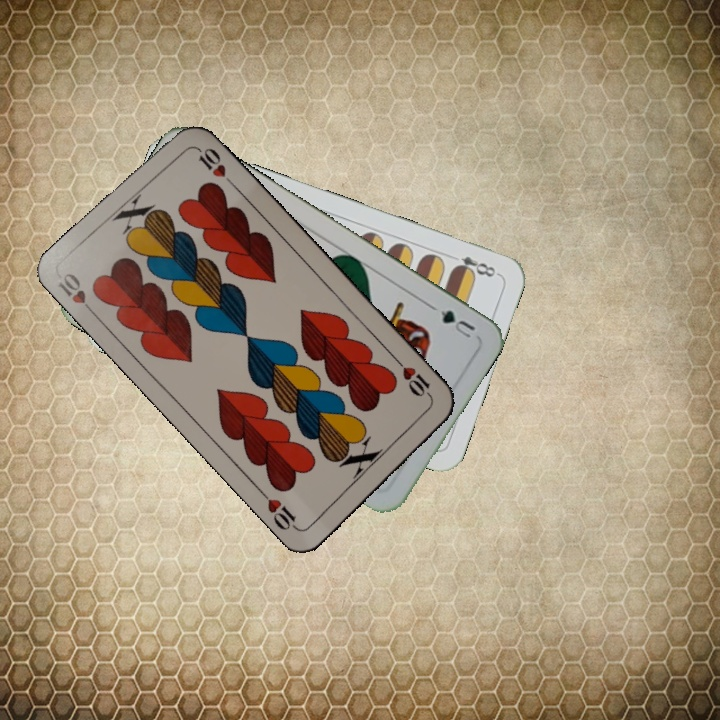E8: (449, 252, 501, 280)
GU: (436, 306, 478, 341)
H10: (53, 269, 100, 320), (392, 355, 436, 404)
